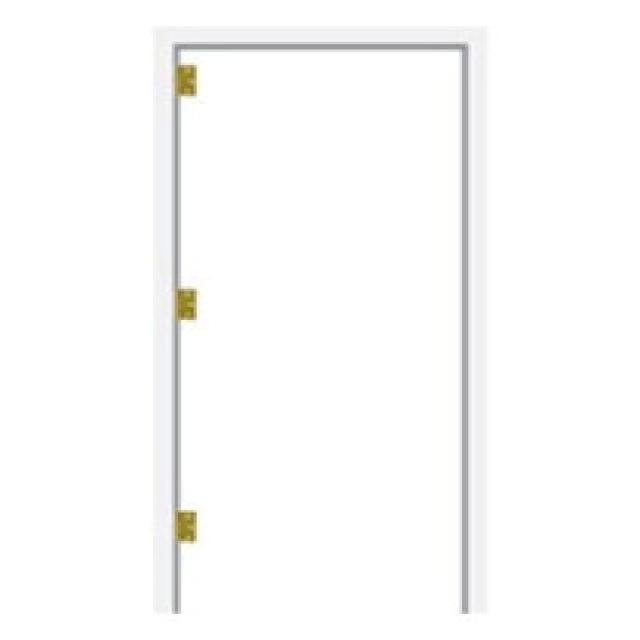door: (158, 30, 476, 615)
